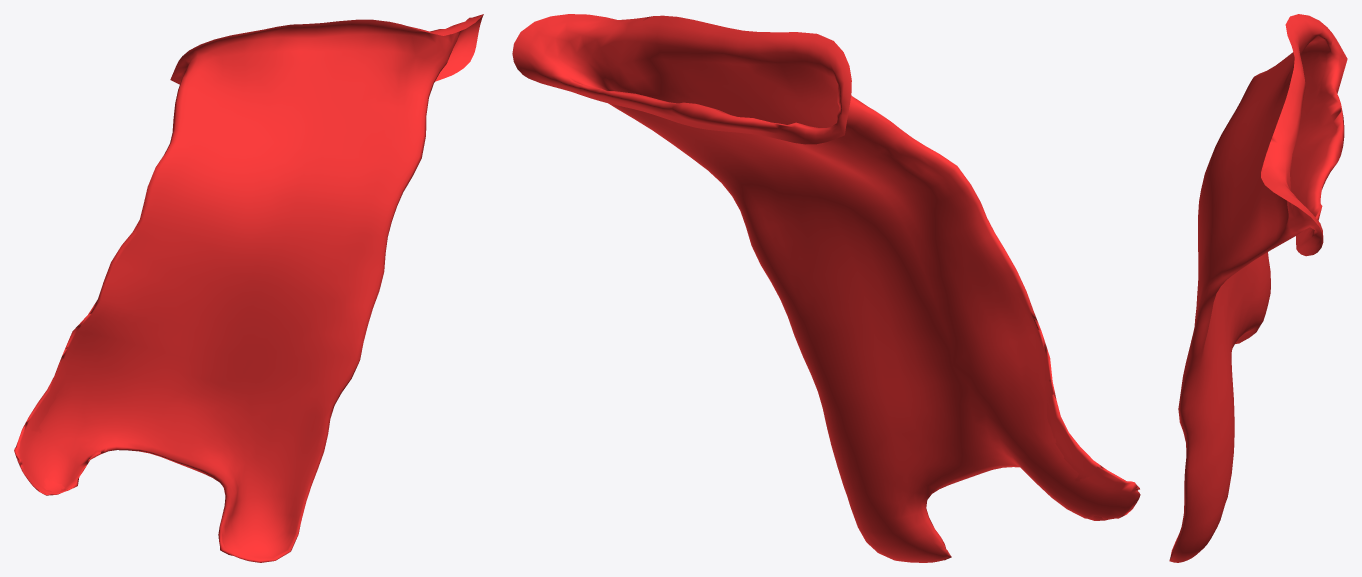
The model's file is SM_Ticket.fbx.
3 renders of one model, left to right at view 1: azimuth 30°, elevation 25°; view 2: azimuth 150°, elevation 25°; view 3: azimuth 270°, elevation 25°, orthographic. The views are drawn at different scales.
Visible parts, largest first — view 1: Ticket_low; view 2: Ticket_low; view 3: Ticket_low.
Boxes of the visible parts, bbox=[...] form: Ticket_low: bbox=[14, 14, 483, 562]; Ticket_low: bbox=[512, 14, 1140, 562]; Ticket_low: bbox=[1169, 14, 1347, 562].
Size of the model in its own units: 66.87 by 61.74 by 18.15.
